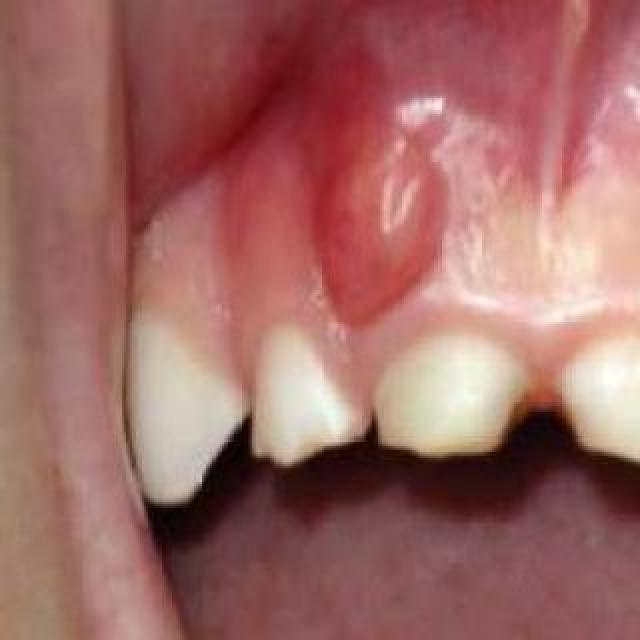cavities: (526, 361, 616, 467), (467, 382, 547, 476)
spacing: (203, 379, 265, 469), (334, 375, 392, 461)
